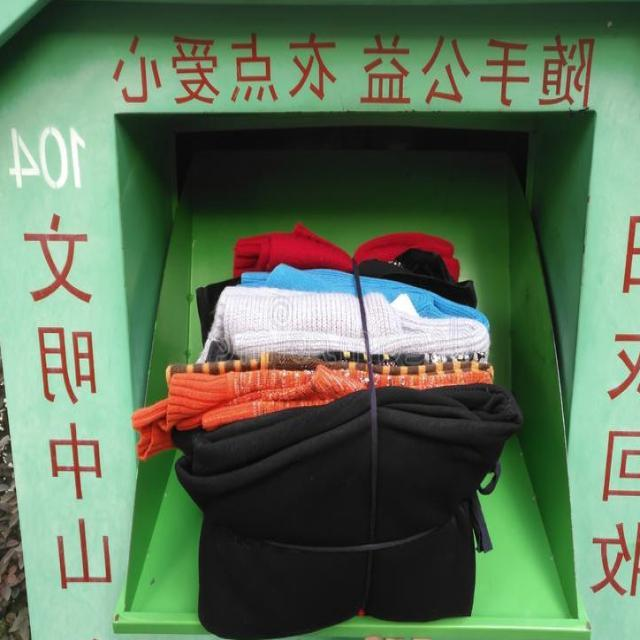clothes: (161, 236, 498, 624)
